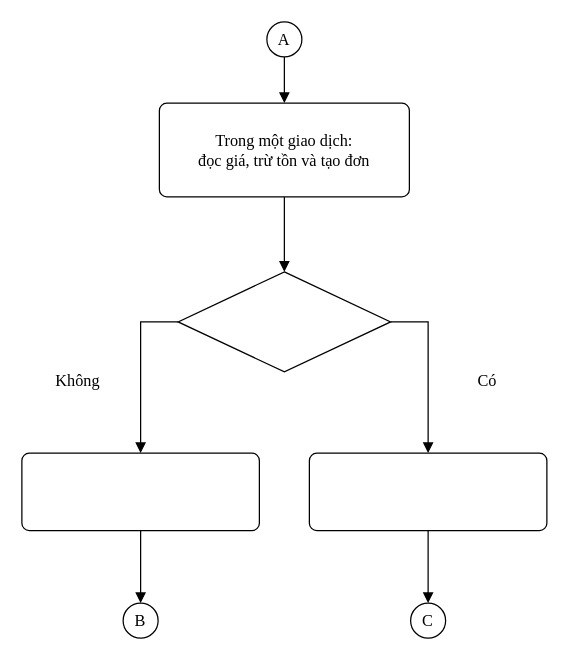
The diagram is 569 pixels wide and 660 high, and some of its shapes have lost their labels. The box of each missing label's shape, as (x1, y1, x2, y2) in pixels:
Ghi chờ thu tiền COD: (21, 452, 259, 531)
Hiển thị QR; chờ thông báo giao dịch: (308, 452, 547, 531)
Thanh toán QR?: (177, 271, 391, 372)
